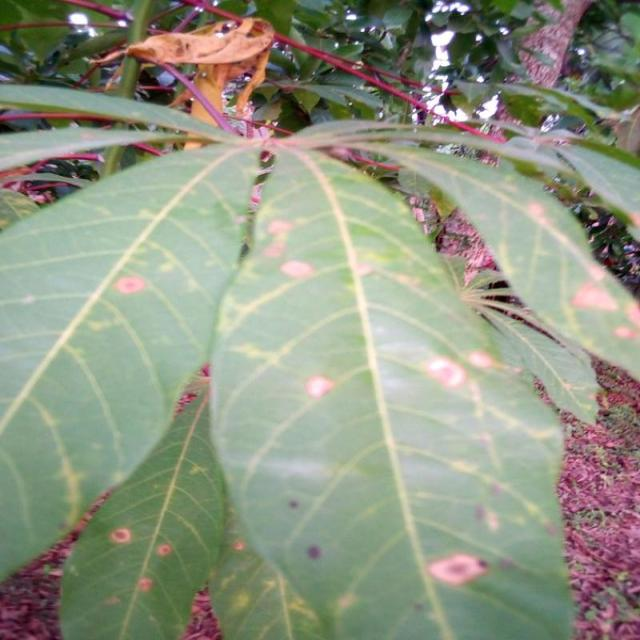cassava leaf: (1, 131, 579, 638)
